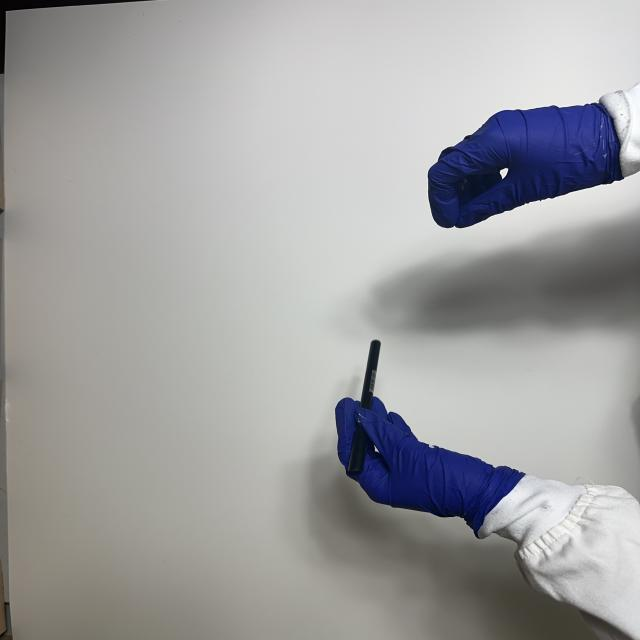gloves_contaminated: (336, 398, 523, 533), (429, 104, 622, 228)
